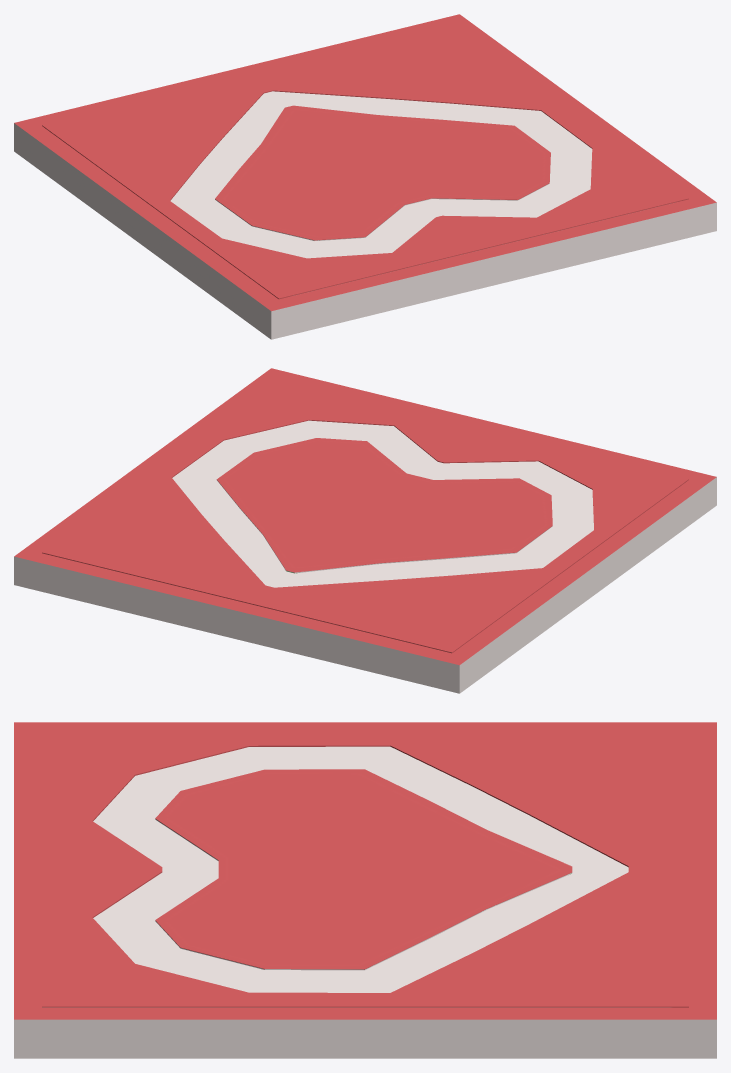
Rendered from Button_Red.fbx.
The picture shows the model from 3 angles, top to bottom: view 1: azimuth 30°, elevation 25°; view 2: azimuth 150°, elevation 25°; view 3: azimuth 270°, elevation 25°; orthographic projection. The views are drawn at different scales.
Visible parts, largest first — view 1: Box006; view 2: Box006; view 3: Box006.
Boxes of the visible parts, x1,y1,x2,y2 form: Box006: [14, 14, 716, 339]; Box006: [14, 368, 716, 693]; Box006: [14, 722, 716, 1058].
Size of the model in its own units: 1 by 0.063 by 1.
Materials: 1 (1 with a texture image).
